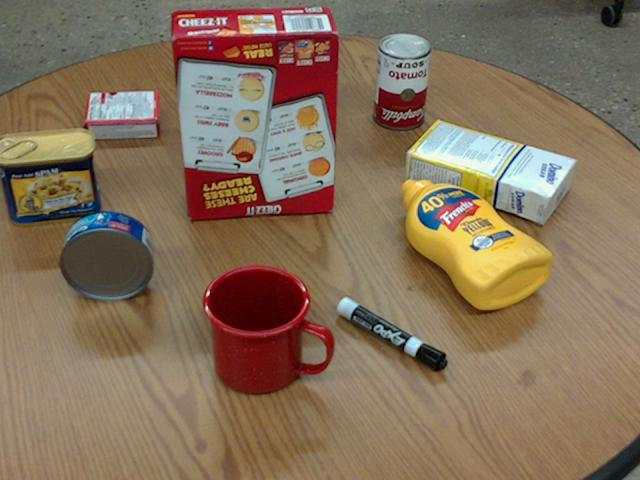cracker_box: (169, 9, 339, 218)
gelatin_box: (84, 90, 159, 139)
large_marker: (335, 297, 447, 371)
master_chef_can: (226, 7, 324, 128)
mug: (202, 264, 333, 395)
mustard_bottle: (400, 179, 551, 309)
potted_meat_can: (0, 128, 100, 227)
sugar_box: (403, 122, 576, 221)
tomato_soup_can: (370, 32, 428, 128)
tuna_fish_can: (59, 210, 153, 301)
